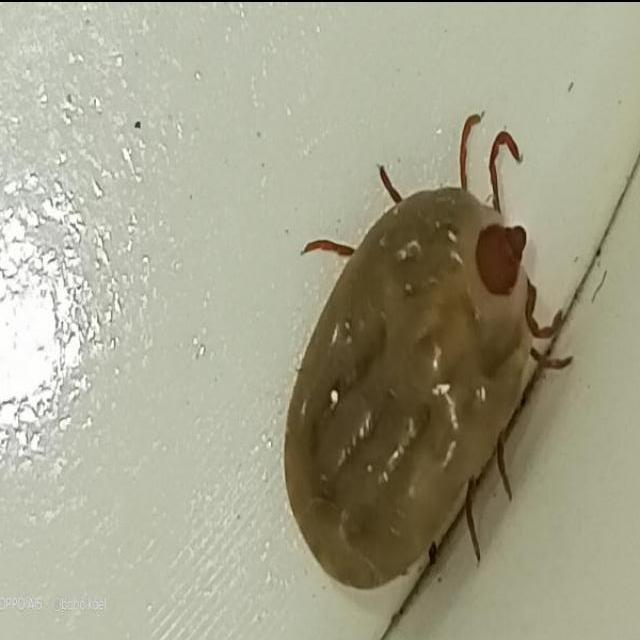Rhipicephalus Sanguineus-F-Fed: (284, 113, 575, 590)
